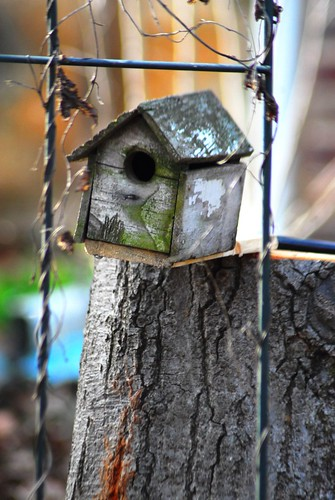birdhouse: (81, 83, 250, 277)
